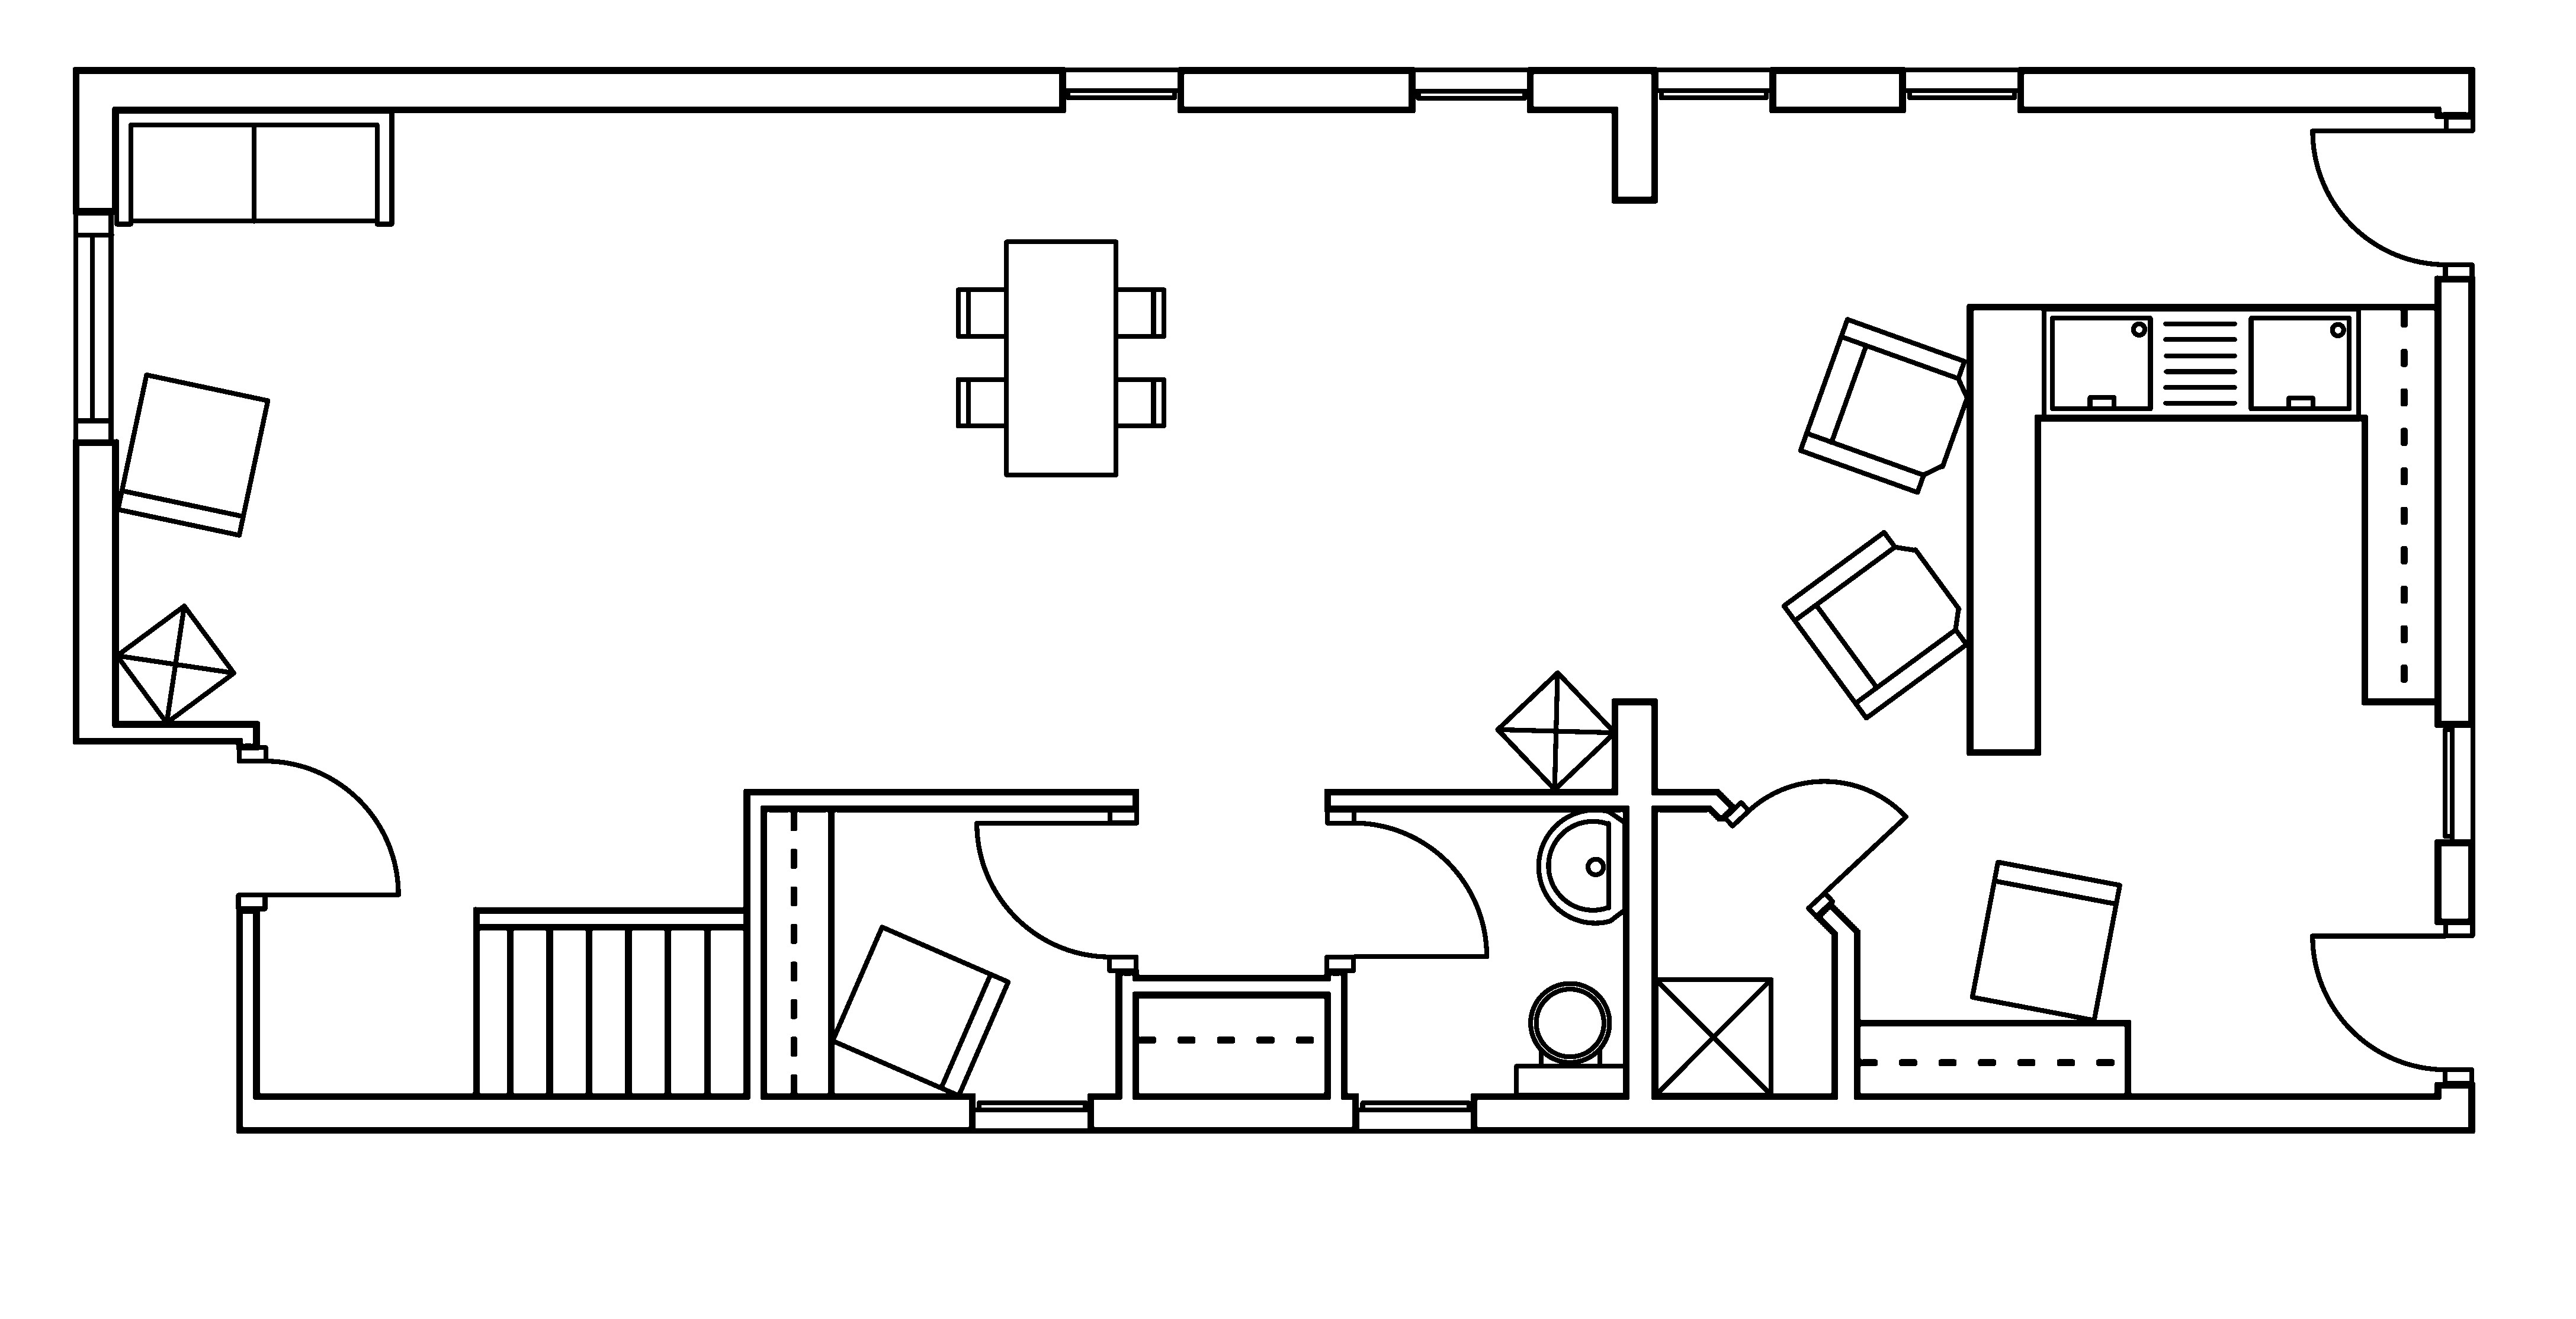armchair: (1781, 528, 1969, 720), (1796, 316, 1971, 495)
coffee_table: (113, 602, 237, 725), (1493, 670, 1618, 792), (1651, 976, 1774, 1097)
dining_table: (953, 239, 1167, 478)
large_sink: (1513, 981, 1628, 1097)
large_sofa: (113, 108, 395, 227)
small_sink: (1535, 808, 1628, 925)
small_sofa: (829, 924, 1011, 1099), (114, 372, 271, 538), (1969, 858, 2122, 1023)
twin_sink: (2040, 305, 2361, 421)
